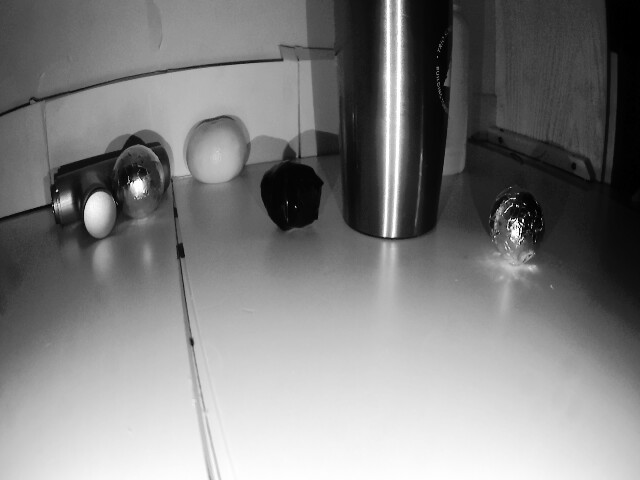black: (255, 157, 323, 230)
silver: (484, 180, 547, 272), (105, 141, 167, 217)
